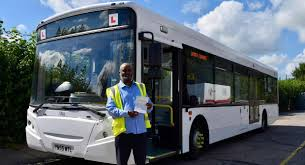bus: (24, 1, 281, 165)
